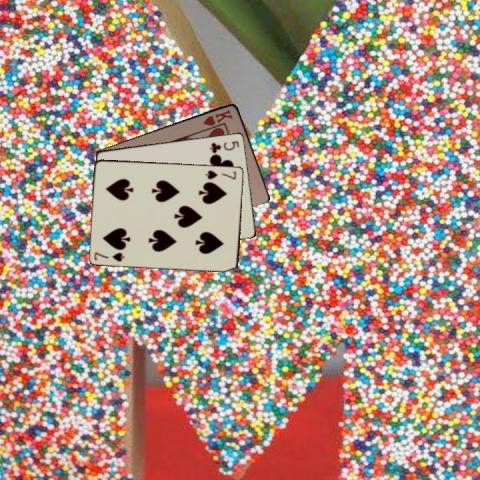5c: (206, 138, 241, 153)
7s: (203, 167, 238, 181), (91, 249, 126, 263)
Kh: (200, 106, 234, 126)
